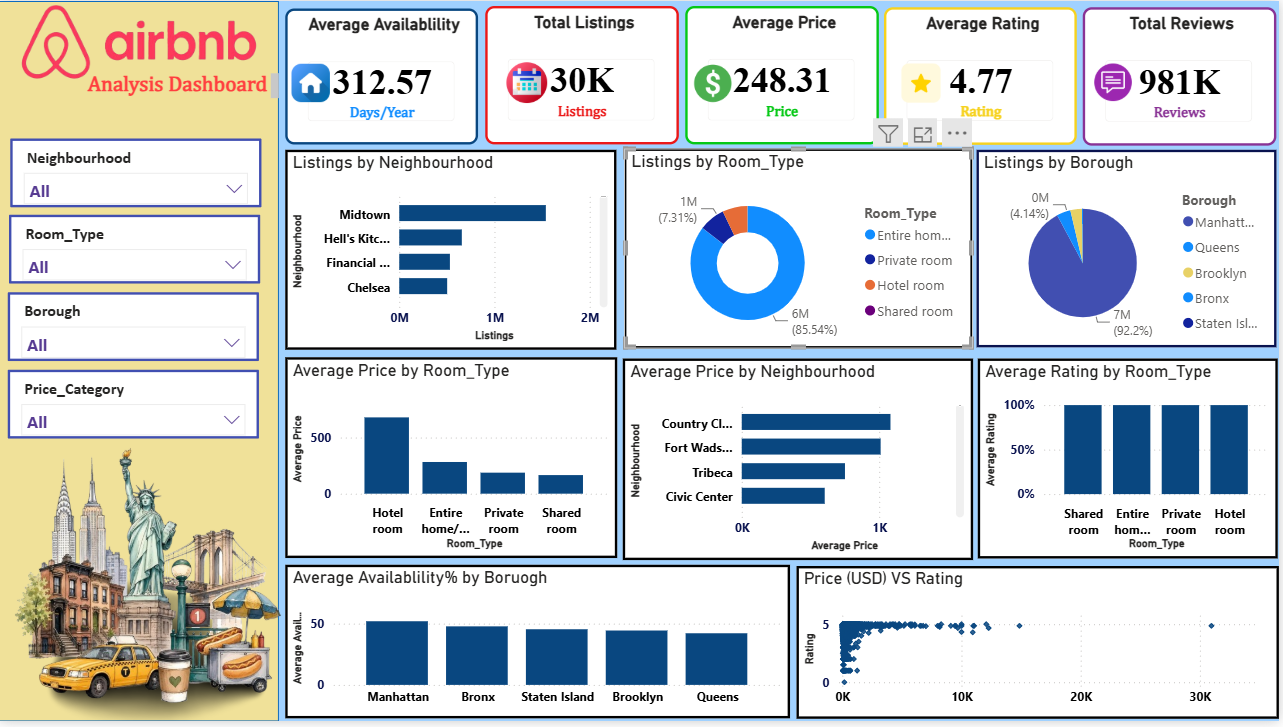

The dashboard page shown, as its layout file describes it:
{"tool":"powerbi","page":{"name":"Page 1","canvas":[1280,720],"ordinal":0},"visuals":[{"type":"shape","box":[0,0,279.9,720.4],"z":0},{"type":"slicer","fields":{"Values":["listings_cleaned.neighbourhood_cleansed"]},"box":[11,137.2,251.1,68.6],"z":1000},{"type":"slicer","fields":{"Values":["listings_cleaned.room_type"]},"box":[9.6,214.1,251.1,68.6],"z":2000},{"type":"slicer","fields":{"Values":["listings_cleaned.neighbourhood_group_cleansed"]},"box":[8.2,290.9,251.1,68.6],"z":3000},{"type":"slicer","fields":{"Values":["listings_cleaned.Price_Category"]},"box":[8.2,369.1,251.1,68.6],"z":4000},{"type":"cardVisual","title":"Total Reviews","fields":{"Data":["listings_cleaned.Total Reviews"]},"box":[1084.1,6.9,193.5,138.6],"z":5000},{"type":"cardVisual","title":"Average Rating","fields":{"Data":["listings_cleaned.Average Rating"]},"box":[885.5,6,193,137.5],"z":6000},{"type":"cardVisual","title":"Average Price","fields":{"Data":["listings_cleaned.Average Price"]},"box":[686.1,5.5,193.5,138.6],"z":7000},{"type":"cardVisual","title":"Total Listings","fields":{"Data":["listings_cleaned.Total Listings"]},"box":[486,5.3,193.5,138.6],"z":8000},{"type":"cardVisual","title":"Average Availablility","fields":{"Data":["listings_cleaned.Average Availability Days"]},"box":[285.9,7.2,193,136.3],"z":9000},{"type":"barChart","fields":{"Category":["listings_cleaned.neighbourhood_cleansed"],"Y":["Sum(listings_cleaned.host_listings_count)"]},"box":[286.2,148.8,331.2,200],"z":10000},{"type":"pieChart","fields":{"Category":["listings_cleaned.room_type"],"Y":["Sum(listings_cleaned.host_listings_count)"]},"box":[625,147.5,348.8,200],"z":11000},{"type":"pieChart","fields":{"Category":["listings_cleaned.neighbourhood_group_cleansed"],"Y":["Sum(listings_cleaned.host_listings_count)"]},"box":[977.5,148.8,300,197.5],"z":12000},{"type":"columnChart","fields":{"Category":["listings_cleaned.room_type"],"Y":["listings_cleaned.Average Price"]},"box":[285.8,355.8,331.7,200.8],"z":13000},{"type":"barChart","fields":{"Category":["listings_cleaned.neighbourhood_cleansed"],"Y":["listings_cleaned.Average Price"]},"box":[623.8,357.5,350,201.2],"z":14000},{"type":"hundredPercentStackedColumnChart","fields":{"Category":["listings_cleaned.room_type"],"Y":["listings_cleaned.Average Rating"]},"box":[978.6,357.1,300,200],"z":15000},{"type":"clusteredColumnChart","fields":{"Category":["listings_cleaned.neighbourhood_group_cleansed"],"Y":["listings_cleaned.Average availablility%"]},"box":[286.2,563.8,505,153.8],"z":16000},{"type":"scatterChart","title":"Price (USD) VS Rating","fields":{"X":["listings_cleaned.price"],"Y":["listings_cleaned.review_scores_rating"]},"box":[797.3,565.5,482.7,152.7],"z":17000},{"type":"textbox","box":[75,67.5,210,35],"z":18000},{"type":"image","box":[0,437.6,300.4,282.3],"z":19000},{"type":"image","box":[1091.3,62.7,46,37.3],"z":20000},{"type":"image","box":[686,58.7,55.3,47.3],"z":21000},{"type":"image","box":[505,61.2,45.3,40.7],"z":22000},{"type":"image","box":[900,62.5,44.7,39.3],"z":23000},{"type":"image","box":[292,58.7,38.7,46],"z":24000},{"type":"image","box":[0,0,280,81.4],"z":25000}]}

Visuals, with their boxes in screenshot pixels (x1, y1, x2, y2), scaled from the page's 1280x720 canvas onto the 1283x727 screenshot:
shape: <bbox>0, 0, 281, 726</bbox>
slicer - listings_cleaned.neighbourhood_cleansed: <bbox>11, 139, 263, 208</bbox>
slicer - listings_cleaned.room_type: <bbox>10, 216, 261, 285</bbox>
slicer - listings_cleaned.neighbourhood_group_cleansed: <bbox>8, 294, 260, 363</bbox>
slicer - listings_cleaned.Price_Category: <bbox>8, 373, 260, 442</bbox>
"Total Reviews" cardVisual: <bbox>1087, 7, 1281, 147</bbox>
"Average Rating" cardVisual: <bbox>888, 6, 1081, 145</bbox>
"Average Price" cardVisual: <bbox>688, 6, 882, 146</bbox>
"Total Listings" cardVisual: <bbox>487, 5, 681, 145</bbox>
"Average Availablility" cardVisual: <bbox>287, 7, 480, 145</bbox>
barChart - listings_cleaned.neighbourhood_cleansed x Sum(listings_cleaned.host_listings_count): <bbox>287, 150, 619, 352</bbox>
pieChart - listings_cleaned.room_type x Sum(listings_cleaned.host_listings_count): <bbox>626, 149, 976, 351</bbox>
pieChart - listings_cleaned.neighbourhood_group_cleansed x Sum(listings_cleaned.host_listings_count): <bbox>980, 150, 1280, 350</bbox>
columnChart - listings_cleaned.room_type x listings_cleaned.Average Price: <bbox>286, 359, 619, 562</bbox>
barChart - listings_cleaned.neighbourhood_cleansed x listings_cleaned.Average Price: <bbox>625, 361, 976, 564</bbox>
hundredPercentStackedColumnChart - listings_cleaned.room_type x listings_cleaned.Average Rating: <bbox>981, 361, 1282, 563</bbox>
clusteredColumnChart - listings_cleaned.neighbourhood_group_cleansed x listings_cleaned.Average availablility%: <bbox>287, 569, 793, 725</bbox>
"Price (USD) VS Rating" scatterChart: <bbox>799, 571, 1282, 725</bbox>
textbox: <bbox>75, 68, 286, 103</bbox>
image: <bbox>0, 442, 301, 726</bbox>
image: <bbox>1094, 63, 1140, 101</bbox>
image: <bbox>688, 59, 743, 107</bbox>
image: <bbox>506, 62, 552, 103</bbox>
image: <bbox>902, 63, 947, 103</bbox>
image: <bbox>293, 59, 331, 106</bbox>
image: <bbox>0, 0, 281, 82</bbox>
